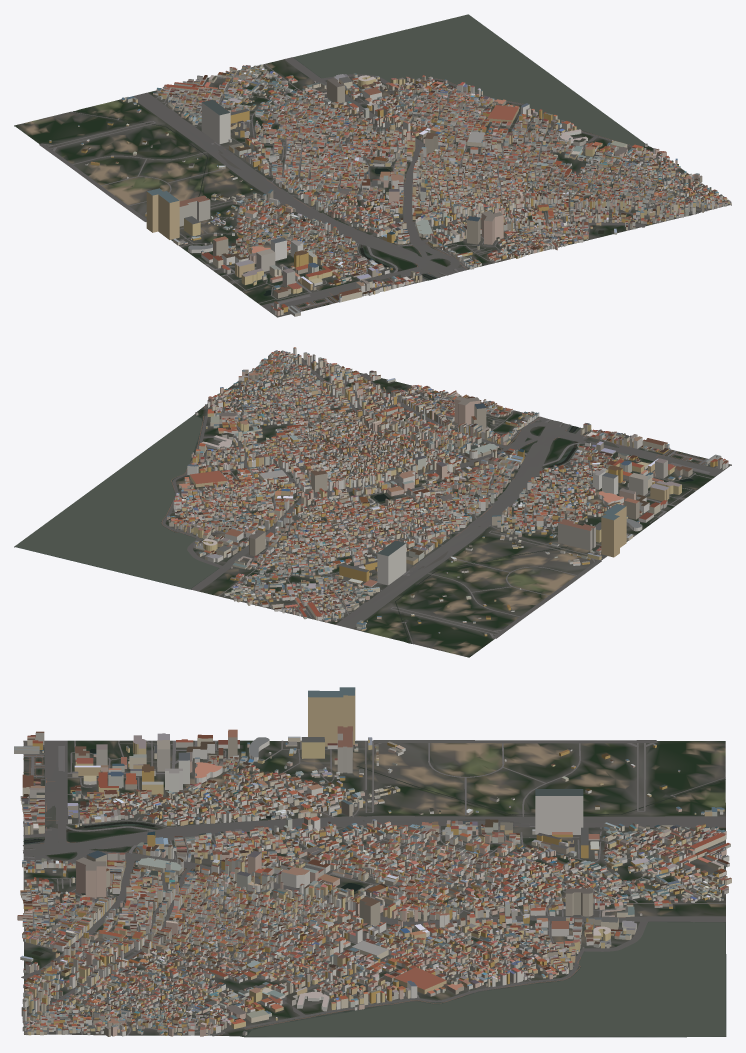
The picture shows the model from 3 angles, top to bottom: view 1: azimuth 30°, elevation 25°; view 2: azimuth 150°, elevation 25°; view 3: azimuth 270°, elevation 25°; orthographic projection. The views are drawn at different scales.
Visible parts, largest first — view 1: buildings, ground, water, roads; view 2: buildings, ground, water, roads; view 3: buildings, ground, water, roads.
Part boxes in pixels (x1=…): buildings: x1=49, y1=64, x2=731, y2=316; ground: x1=14, y1=16, x2=731, y2=317; water: x1=73, y1=14, x2=692, y2=295; roads: x1=39, y1=57, x2=730, y2=317; buildings: x1=167, y1=347, x2=728, y2=636; ground: x1=14, y1=359, x2=731, y2=657; water: x1=15, y1=362, x2=693, y2=643; roads: x1=161, y1=358, x2=730, y2=643; buildings: x1=14, y1=687, x2=731, y2=1036; ground: x1=23, y1=740, x2=726, y2=1037; water: x1=23, y1=749, x2=725, y2=1036; roads: x1=21, y1=740, x2=725, y2=1036.
Size of the model in its own units: 1426 by 113 by 1433.
